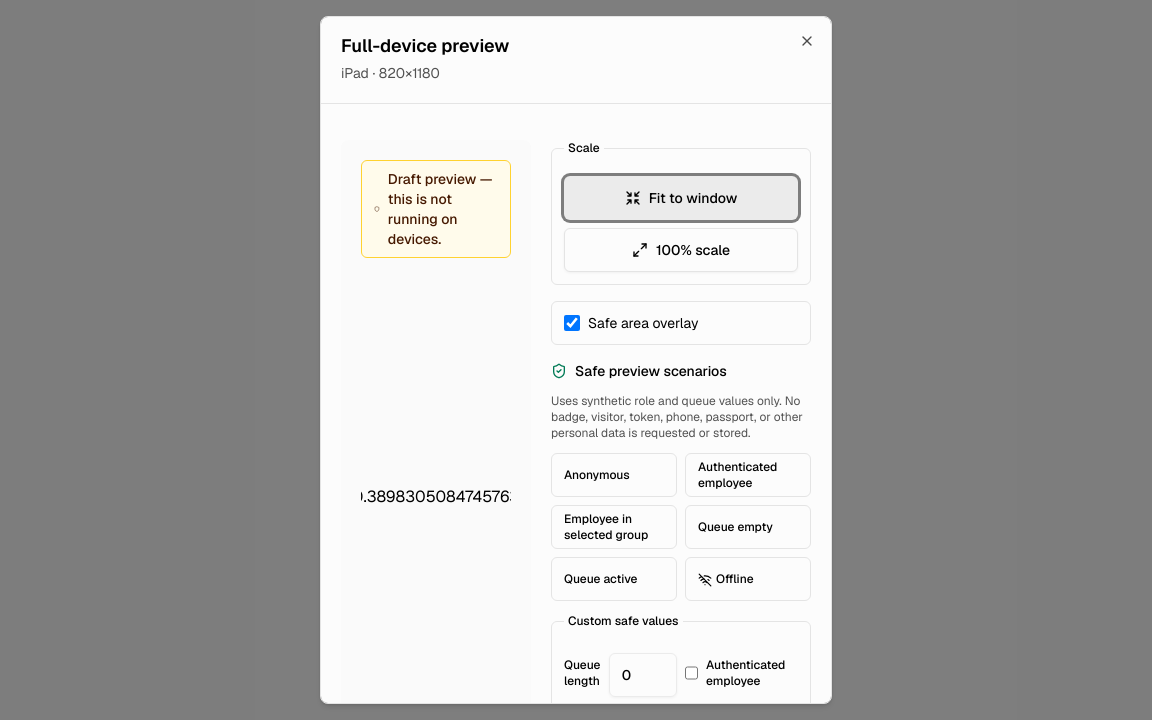
ExperiencePreviewDialog › recomputes fit on resize while 100% remains an unscaled scroll mode
Click the button "100% scale" at (681, 250), box [564,228,798,272]
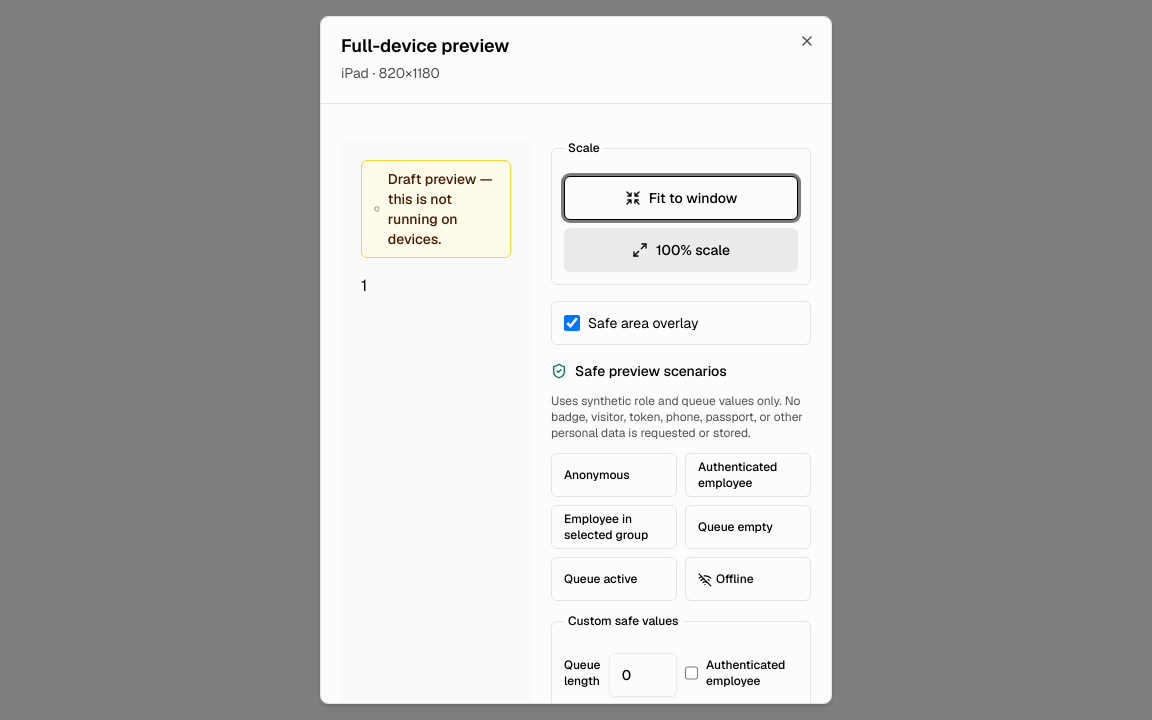
Expected: the text with test id "preview-scale" reads "1", [361,275,367,296]
